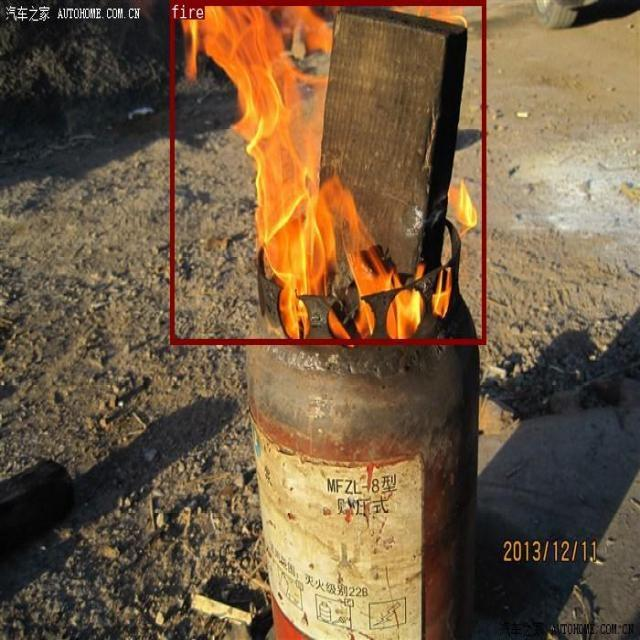fire: (170, 0, 485, 344)
